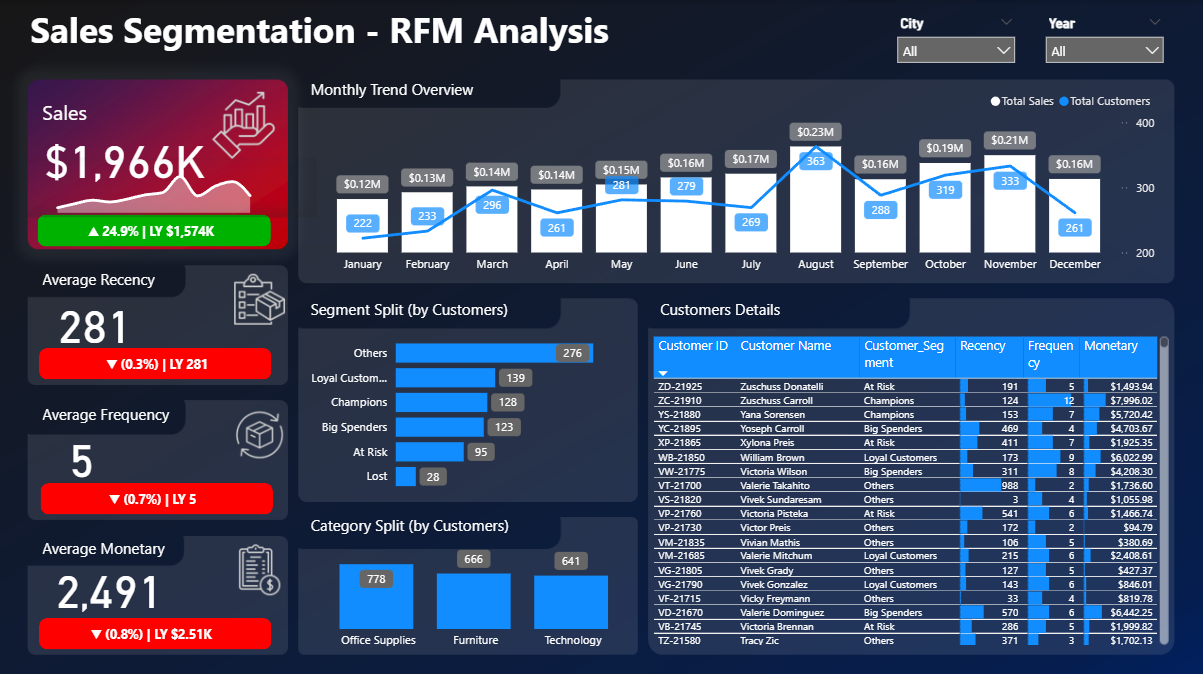

What the dashboard file says about the page in this screenshot:
{"tool":"powerbi","page":{"name":"Dashboard","canvas":[1280,720],"ordinal":0},"visuals":[{"type":"shape","box":[43.5,226.8,247.6,34],"z":0},{"type":"shape","box":[46.1,512.8,246.5,33.4],"z":0,"group":"g2"},{"type":"shape","box":[44.5,655.3,246.5,33.4],"z":0,"group":"g1"},{"type":"textbox","box":[30.2,0,633.1,64.3],"z":1000},{"type":"card","fields":{"Values":["Tbl_Measures.Total Sales"]},"box":[42.9,127.2,184.5,77.9],"z":2000},{"type":"textbox","box":[42.9,98.6,68.4,39.8],"z":3000},{"type":"card","fields":{"Values":["Tbl_Measures.AvgMonatery"]},"box":[42.9,588.5,151.1,66.8],"z":4000},{"type":"card","fields":{"Values":["Tbl_Measures.AvgFrequency"]},"box":[42.9,453.3,92.3,58.9],"z":5000},{"type":"card","fields":{"Values":["Tbl_Measures.AvgRecency"]},"box":[38.2,311.8,130.4,57.3],"z":6000},{"type":"textbox","box":[42.9,279.9,130.4,39.8],"z":7000},{"type":"textbox","box":[42.9,423.1,151.1,39.8],"z":8000},{"type":"textbox","box":[42.9,564.7,151.1,31.8],"z":9000},{"type":"card","fields":{"Values":["Tbl_Measures.YoY SalesVariance"]},"box":[58.6,230.6,207.9,34],"z":10000},{"type":"slicer","fields":{"Values":["DateTable.Year"]},"box":[1102.3,11.1,144.7,66.8],"z":11000},{"type":"shape","box":[44.5,369,246.5,33.4],"z":12000},{"type":"card","fields":{"Values":["Tbl_Measures.YoY RecencyVar"]},"box":[65.2,370.6,208.4,35],"z":13000},{"type":"group","id":"g1","title":"Group 1","box":[44.5,655.3,246.5,36.6],"z":14000},{"type":"group","id":"g2","title":"Group 1","box":[46.1,512.8,246.5,36.6],"z":15000},{"type":"card","fields":{"Values":["Tbl_Measures.YoY FrequencyVar"]},"box":[60.4,514.4,208.4,35],"z":15000,"group":"g2"},{"type":"card","fields":{"Values":["Tbl_Measures.YoY MonetaryVar"]},"box":[58.8,656.9,208.4,35],"z":15000,"group":"g1"},{"type":"lineChart","fields":{"Category":["DateTable.Month Number"],"Y":["Tbl_Measures.Total Sales"]},"box":[30.2,167,308.6,63.6],"z":16000},{"type":"lineStackedColumnComboChart","fields":{"Category":["DateTable.Month Name"],"Y":["Tbl_Measures.Total Sales"],"Y2":["Tbl_Measures.Total Customers"]},"box":[327.7,87.5,905.1,210],"z":17000},{"type":"textbox","box":[327.7,77.9,186.1,39.8],"z":18000},{"type":"clusteredBarChart","fields":{"Category":["RFM_Calculation.Customer_Segment"],"Y":["CountNonNull(RFM_Calculation.Customer ID)"]},"box":[316.5,340.4,346.8,190.9],"z":19000},{"type":"textbox","box":[327.7,311.8,229,39.8],"z":20000},{"type":"clusteredColumnChart","fields":{"Category":["Superstore 2025.Category"],"Y":["Count(Superstore 2025.Customer ID)"]},"box":[316.5,564.7,381.7,132],"z":21000},{"type":"textbox","box":[327.7,540.8,229,39.8],"z":22000},{"type":"tableEx","fields":{"Values":["RFM_Calculation.Customer ID","RFM_Calculation.Customer Name","RFM_Calculation.Customer_Segment","RFM_Calculation.Recency","RFM_Calculation.Frequency","RFM_Calculation.Monetary"]},"box":[690.3,351.5,556.7,337.2],"z":23000},{"type":"slicer","fields":{"Values":["Superstore 2025.City"]},"box":[944.8,11.1,144.7,66.8],"z":24000},{"type":"textbox","box":[698.3,311.8,229,39.8],"z":25000}]}

Visuals, with their boxes in screenshot pixels (x1, y1, x2, y2), scaled from the page's 1280x720 canvas onto the 1203x674 screenshot:
shape: pyautogui.locateOnScreen(41, 212, 274, 244)
shape: pyautogui.locateOnScreen(43, 480, 275, 511)
shape: pyautogui.locateOnScreen(42, 613, 273, 645)
textbox: pyautogui.locateOnScreen(28, 0, 623, 60)
card - Tbl_Measures.Total Sales: pyautogui.locateOnScreen(40, 119, 214, 192)
textbox: pyautogui.locateOnScreen(40, 92, 105, 130)
card - Tbl_Measures.AvgMonatery: pyautogui.locateOnScreen(40, 551, 182, 613)
card - Tbl_Measures.AvgFrequency: pyautogui.locateOnScreen(40, 424, 127, 479)
card - Tbl_Measures.AvgRecency: pyautogui.locateOnScreen(36, 292, 158, 346)
textbox: pyautogui.locateOnScreen(40, 262, 163, 299)
textbox: pyautogui.locateOnScreen(40, 396, 182, 433)
textbox: pyautogui.locateOnScreen(40, 529, 182, 558)
card - Tbl_Measures.YoY SalesVariance: pyautogui.locateOnScreen(55, 216, 250, 248)
slicer - DateTable.Year: pyautogui.locateOnScreen(1036, 10, 1172, 73)
shape: pyautogui.locateOnScreen(42, 345, 273, 377)
card - Tbl_Measures.YoY RecencyVar: pyautogui.locateOnScreen(61, 347, 257, 380)
"Group 1" group: pyautogui.locateOnScreen(42, 613, 273, 648)
"Group 1" group: pyautogui.locateOnScreen(43, 480, 275, 514)
card - Tbl_Measures.YoY FrequencyVar: pyautogui.locateOnScreen(57, 482, 253, 514)
card - Tbl_Measures.YoY MonetaryVar: pyautogui.locateOnScreen(55, 615, 251, 648)
lineChart - DateTable.Month Number x Tbl_Measures.Total Sales: pyautogui.locateOnScreen(28, 156, 318, 216)
lineStackedColumnComboChart - DateTable.Month Name x Tbl_Measures.Total Sales: pyautogui.locateOnScreen(308, 82, 1159, 278)
textbox: pyautogui.locateOnScreen(308, 73, 483, 110)
clusteredBarChart - RFM_Calculation.Customer_Segment x CountNonNull(RFM_Calculation.Customer ID): pyautogui.locateOnScreen(297, 319, 623, 497)
textbox: pyautogui.locateOnScreen(308, 292, 523, 329)
clusteredColumnChart - Superstore 2025.Category x Count(Superstore 2025.Customer ID): pyautogui.locateOnScreen(297, 529, 656, 652)
textbox: pyautogui.locateOnScreen(308, 506, 523, 544)
tableEx - RFM_Calculation.Customer ID x RFM_Calculation.Customer Name: pyautogui.locateOnScreen(649, 329, 1172, 645)
slicer - Superstore 2025.City: pyautogui.locateOnScreen(888, 10, 1024, 73)
textbox: pyautogui.locateOnScreen(656, 292, 872, 329)
